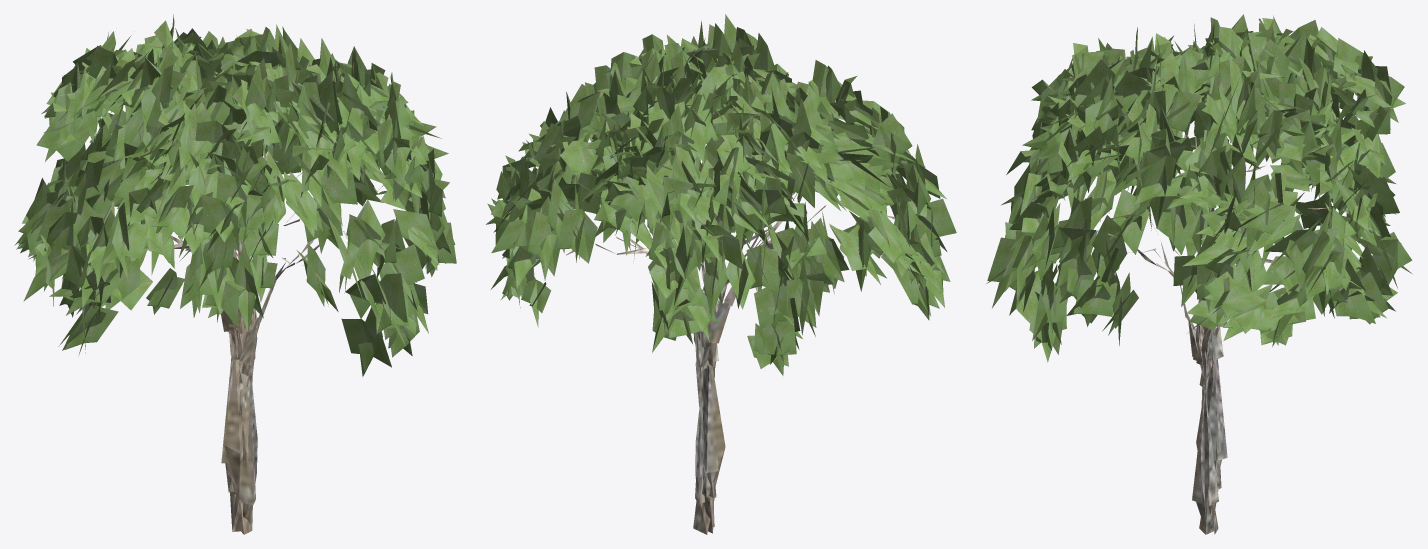
The model's file is acacia_4.obj.
3 renders of one model, left to right at view 1: azimuth 30°, elevation 25°; view 2: azimuth 150°, elevation 25°; view 3: azimuth 270°, elevation 25°, orthographic. The views are drawn at different scales.
Visible parts, largest first — view 1: acacia_lowres.004; view 2: acacia_lowres.004; view 3: acacia_lowres.004.
Part boxes in pixels (bbox=[...]): acacia_lowres.004: bbox=[14, 14, 456, 534]; acacia_lowres.004: bbox=[486, 14, 956, 534]; acacia_lowres.004: bbox=[986, 14, 1412, 534].
Size of the model in its own units: 11.33 by 12.37 by 9.57.
Materials: 1 (1 with a texture image).
